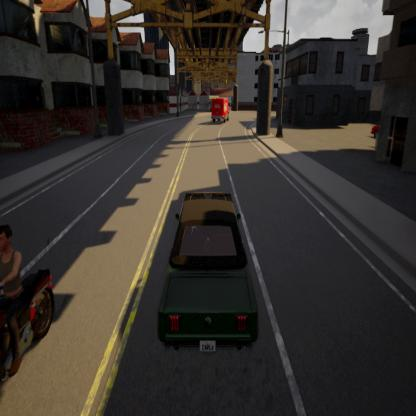Cars: (158, 188, 268, 359), (208, 93, 232, 125)
